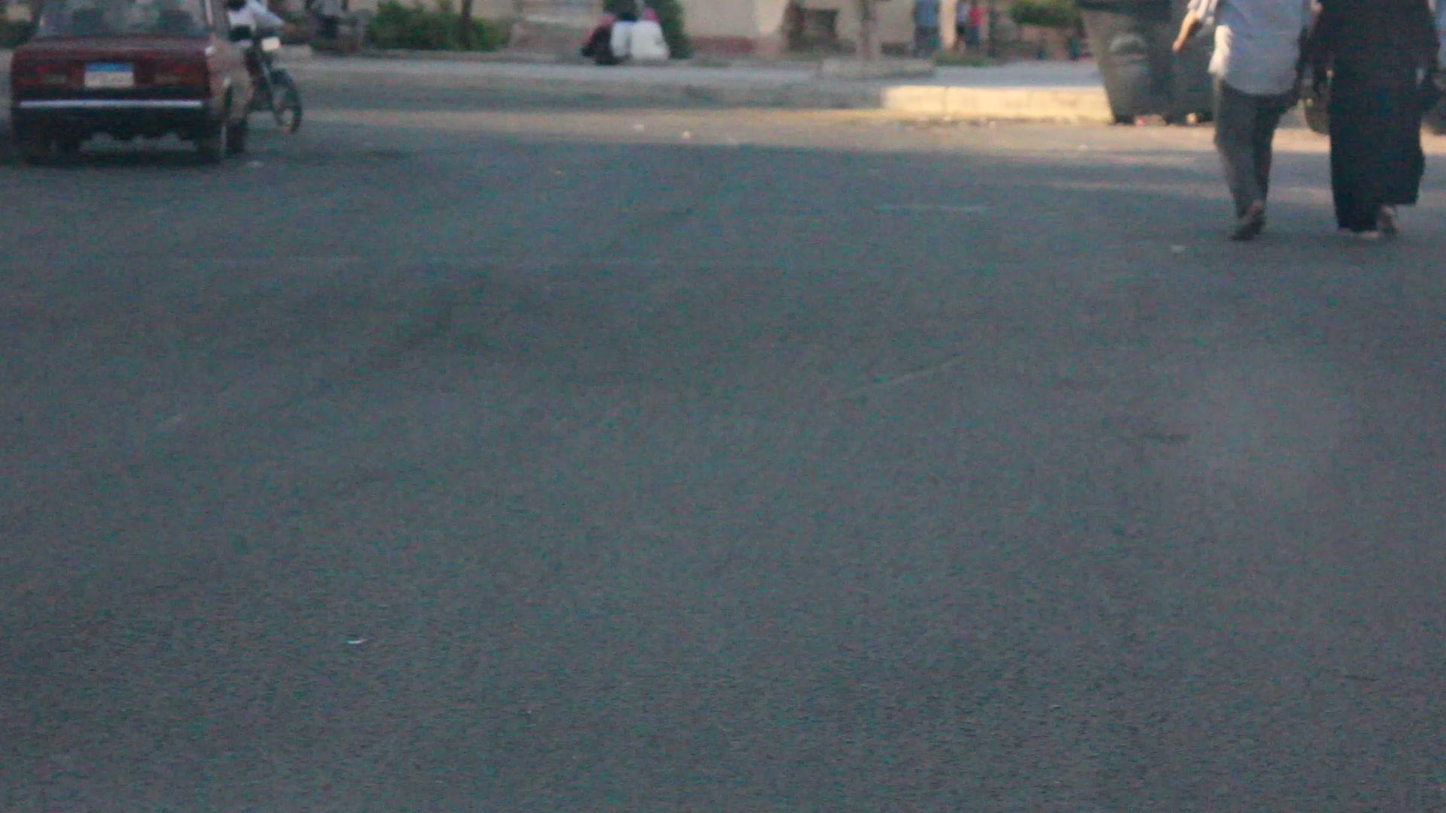Bump: (0, 254, 1446, 373)
